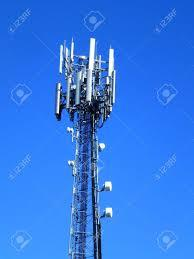Microwave Antenna: (99, 204, 116, 220), (100, 178, 114, 194), (62, 127, 77, 141), (96, 140, 109, 154), (67, 160, 78, 176)
antenna: (54, 79, 67, 117), (55, 42, 67, 76), (87, 38, 99, 70), (105, 46, 116, 72), (87, 68, 95, 103), (75, 72, 81, 109)
